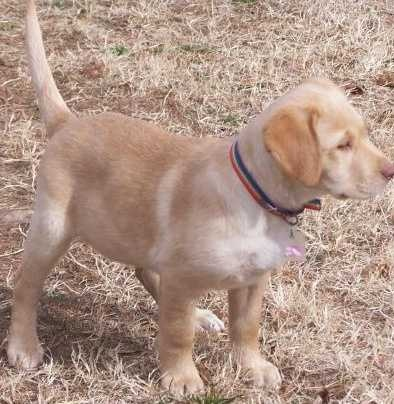dog: (3, 18, 384, 396)
